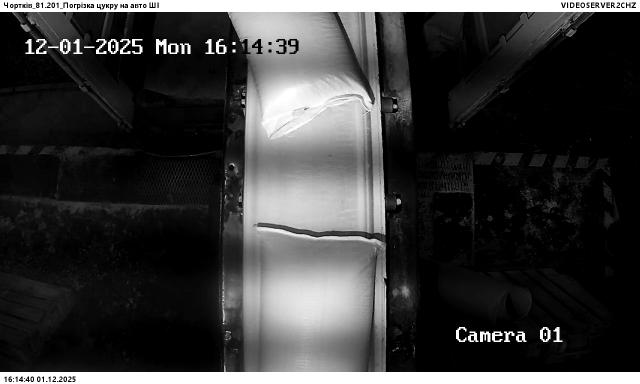bag: (227, 12, 375, 141), (256, 225, 382, 370)
